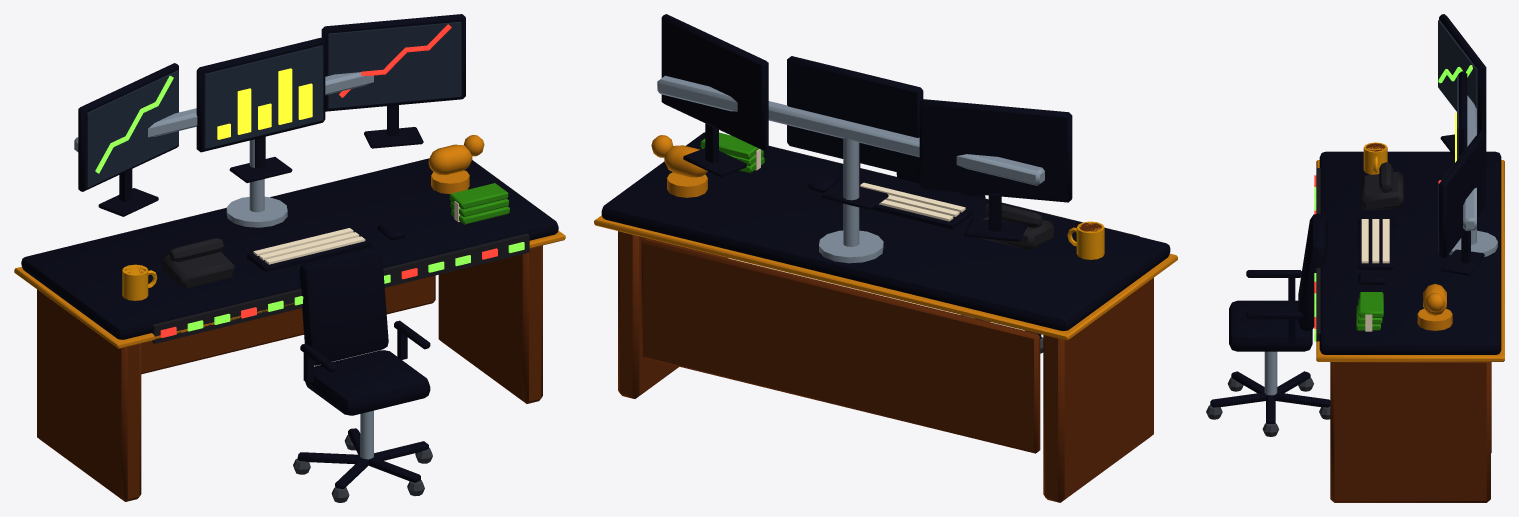
Rendered from BrokerDesk.fbx.
The picture shows the model from 3 angles, left to right: view 1: azimuth 30°, elevation 25°; view 2: azimuth 150°, elevation 25°; view 3: azimuth 270°, elevation 25°; orthographic projection. The views are drawn at different scales.
Visible parts, largest first — view 1: BrokerDesk; view 2: BrokerDesk; view 3: BrokerDesk.
Boxes of the visible parts, left/top/right/bottom form: BrokerDesk: left=14, top=14, right=565, bottom=502; BrokerDesk: left=594, top=14, right=1177, bottom=502; BrokerDesk: left=1206, top=14, right=1504, bottom=502.
Size of the model in its own units: 6.7 by 4.95 by 4.28.
